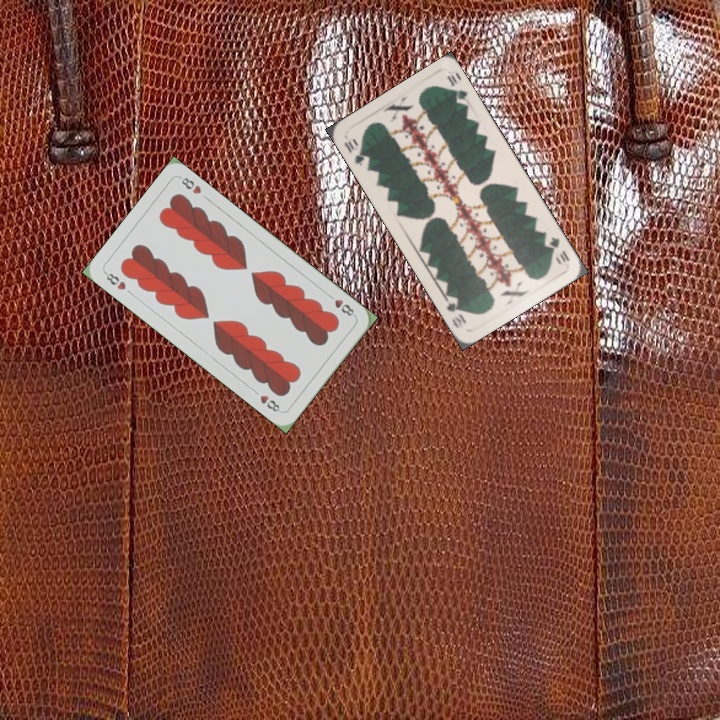G10: (340, 134, 368, 169), (544, 233, 572, 265)
H8: (323, 290, 358, 319), (100, 268, 128, 293)
